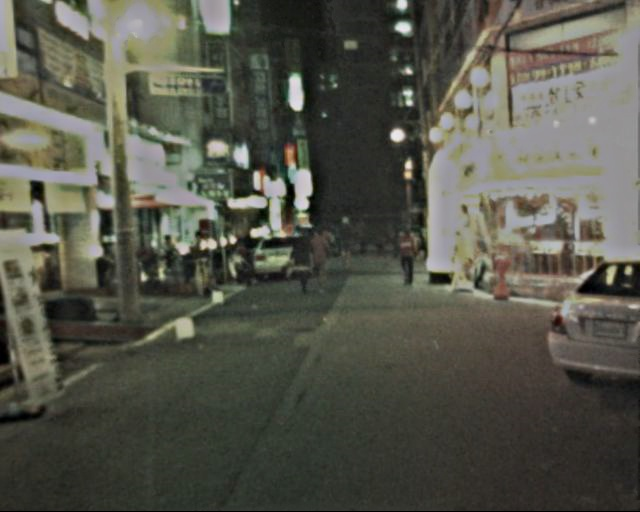person: (284, 226, 315, 298), (304, 223, 333, 296), (395, 224, 423, 288), (333, 217, 357, 270), (350, 215, 371, 262), (371, 226, 395, 258)
